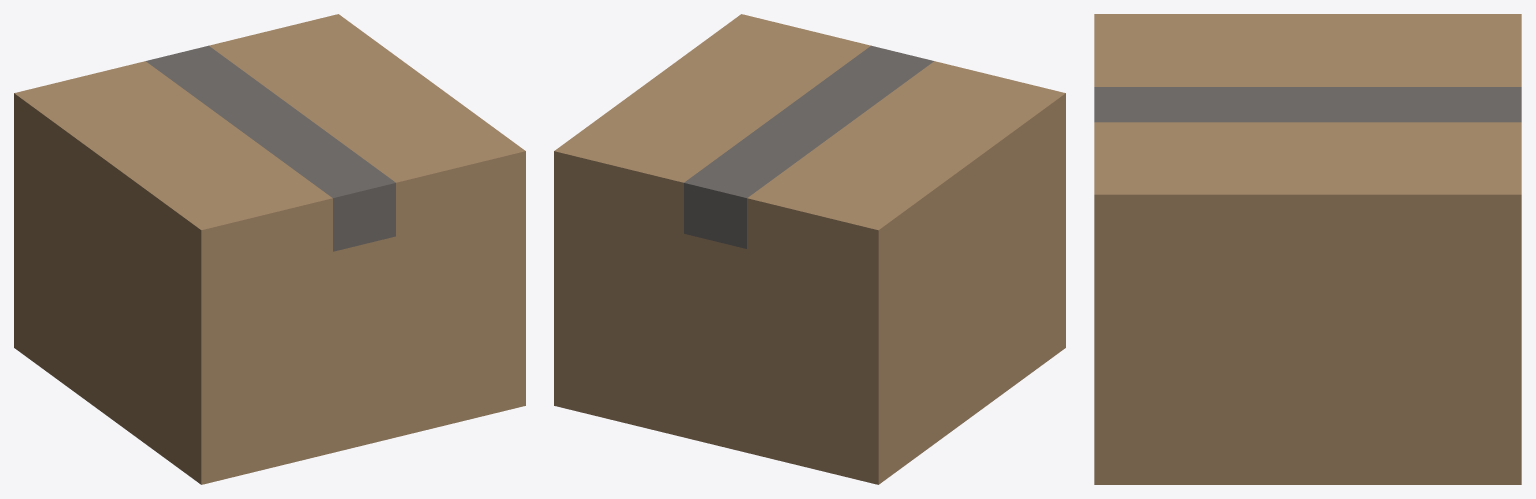
Rendered from Box Large.glb.
3 renders of one model, left to right at view 1: azimuth 30°, elevation 25°; view 2: azimuth 150°, elevation 25°; view 3: azimuth 270°, elevation 25°, orthographic. The views are drawn at different scales.
Visible parts, largest first — view 1: Cube; view 2: Cube; view 3: Cube.
Boxes of the visible parts, <box> form: Cube: <box>14,14,525,484</box>; Cube: <box>554,14,1065,484</box>; Cube: <box>1094,14,1521,484</box>.
Size of the model in its own units: 0.8 by 0.6 by 0.8.
